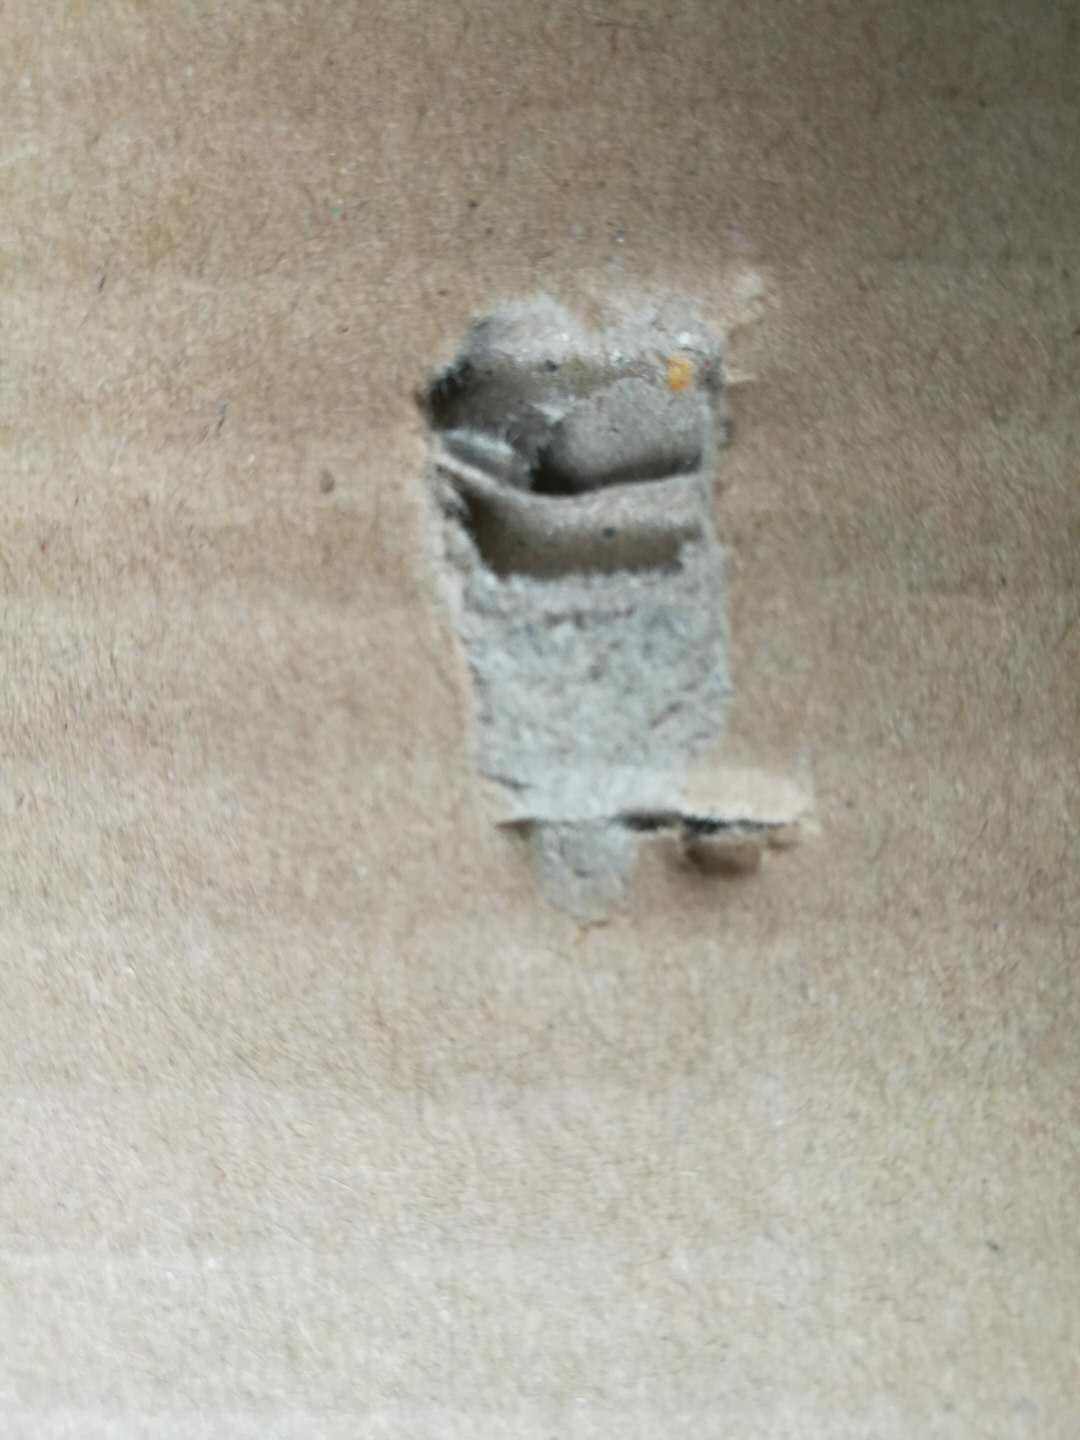defect: (302, 225, 886, 959)
